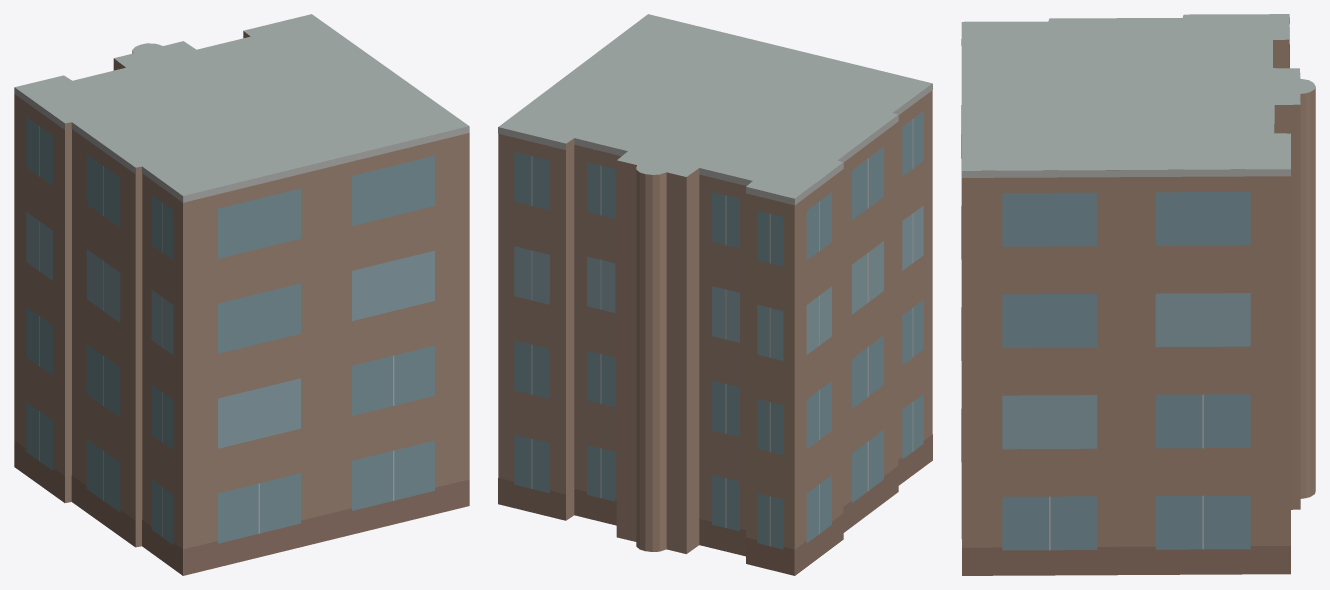
File: survey-upis-32698916.glb
3 views of the same model, side by side, from view 1: azimuth 30°, elevation 25°; view 2: azimuth 150°, elevation 25°; view 3: azimuth 270°, elevation 25° (orthographic). The views are drawn at different scales.
Parts seen in each view (by area): view 1: survey-upis-32698916.tmp; view 2: survey-upis-32698916.tmp; view 3: survey-upis-32698916.tmp.
Part boxes in pixels (<box>): survey-upis-32698916.tmp: <box>14,14,469,575</box>; survey-upis-32698916.tmp: <box>498,14,932,575</box>; survey-upis-32698916.tmp: <box>961,14,1315,575</box>.
Size of the model in its own units: 11.56 by 13.9 by 11.02.
